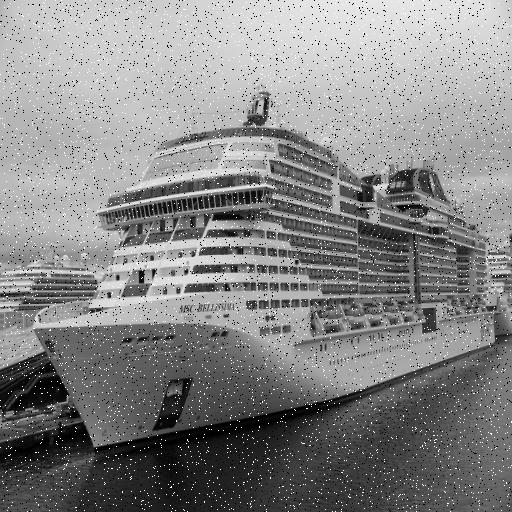cruises: (29, 91, 500, 469)
